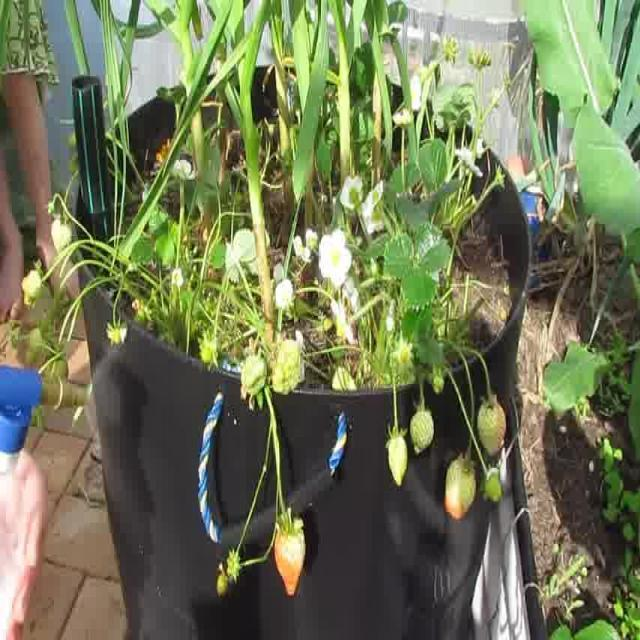Fruta sana: (275, 511, 305, 598), (42, 343, 68, 405), (272, 340, 300, 394), (23, 258, 48, 308), (242, 352, 270, 394), (329, 362, 358, 390), (24, 328, 42, 368), (482, 468, 502, 502), (26, 399, 44, 428), (228, 543, 240, 576), (432, 372, 444, 396), (216, 575, 228, 598), (324, 319, 334, 332)
Moho gris: (444, 446, 478, 522), (478, 395, 506, 457), (386, 427, 409, 489), (410, 404, 435, 455)
Oído: (52, 210, 74, 256)
